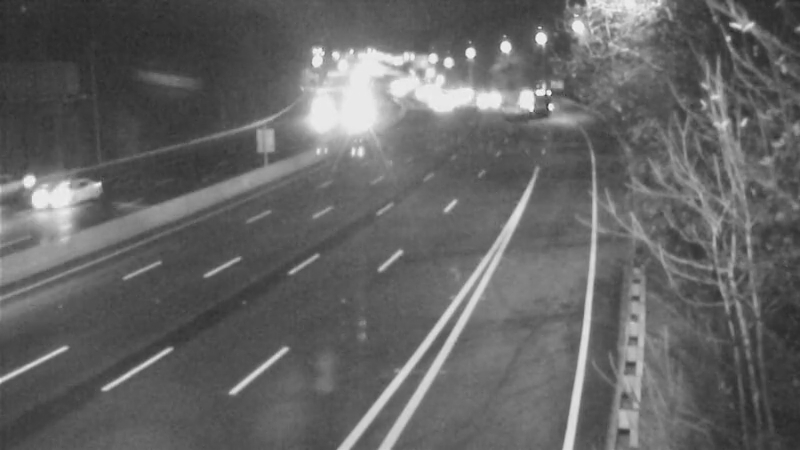vehicle: (21, 155, 101, 235), (1, 146, 66, 226), (513, 76, 563, 126), (461, 74, 511, 124), (413, 78, 463, 128), (299, 84, 349, 134)
